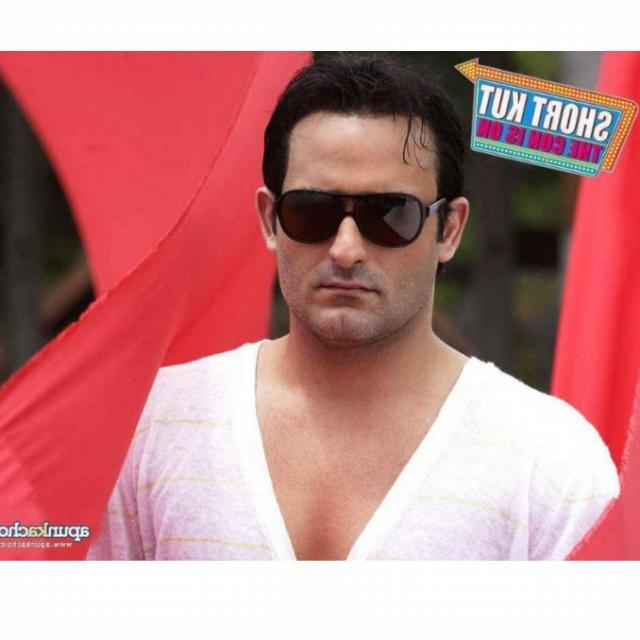live: (252, 108, 463, 350)
